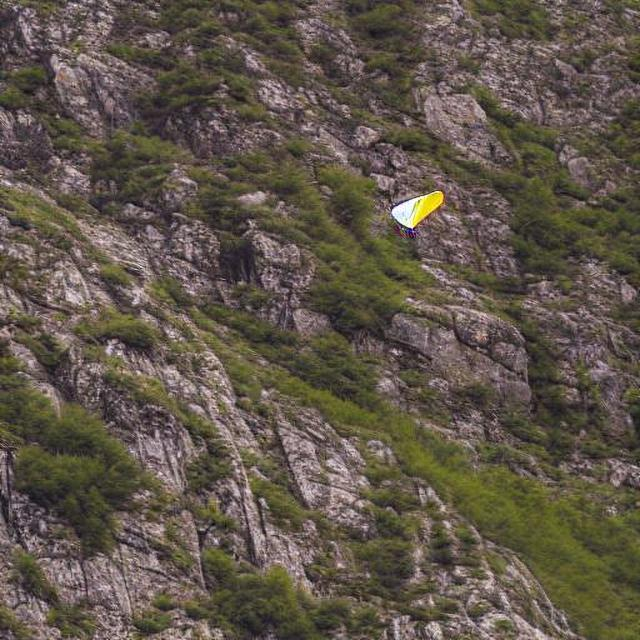floating object: (389, 189, 444, 239)
